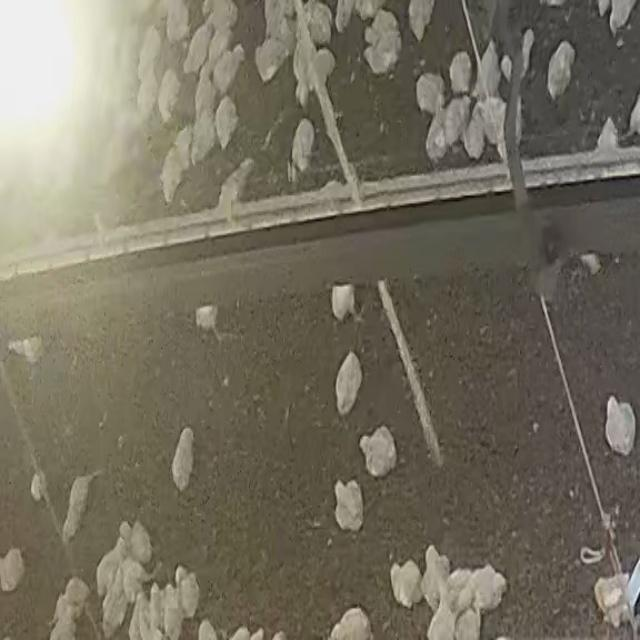chicken: (61, 471, 101, 543), (214, 158, 258, 219), (48, 572, 92, 622), (136, 26, 164, 98), (288, 39, 318, 106), (288, 115, 320, 177), (546, 40, 577, 102), (605, 396, 637, 456), (211, 44, 245, 100), (97, 567, 128, 628), (182, 20, 215, 76), (420, 547, 449, 610), (335, 352, 363, 417), (358, 429, 398, 474), (189, 106, 219, 164), (254, 37, 291, 84), (119, 514, 155, 562), (175, 563, 208, 615), (333, 479, 365, 532), (170, 427, 196, 492), (476, 97, 509, 148), (362, 37, 404, 77), (159, 143, 187, 203), (389, 560, 424, 608), (439, 96, 470, 150), (156, 66, 184, 125), (326, 607, 372, 640), (171, 124, 197, 180), (302, 1, 334, 46), (462, 106, 489, 158), (413, 74, 448, 114), (214, 98, 242, 146), (194, 69, 218, 125), (478, 40, 502, 95), (424, 114, 450, 161), (165, 0, 192, 45), (448, 50, 474, 96), (408, 0, 434, 42)
